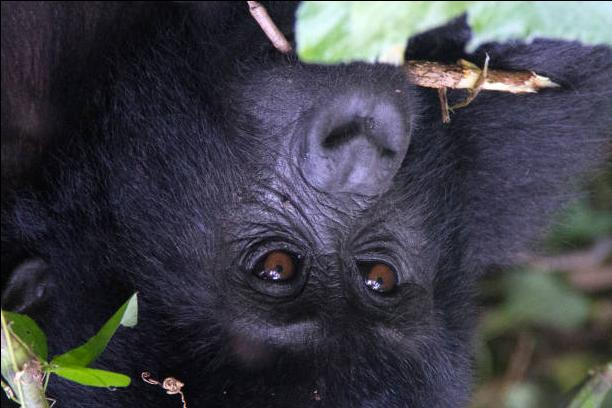goriile_montagne: (7, 4, 578, 408)
